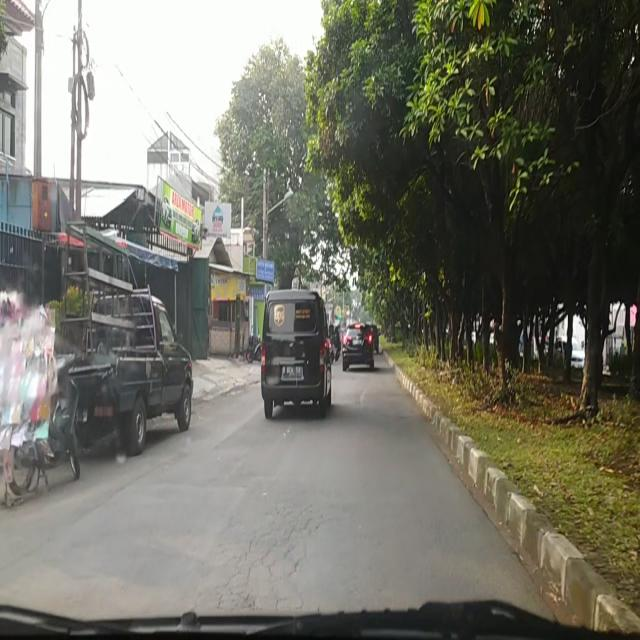Drain Hole: (204, 500, 326, 614)
